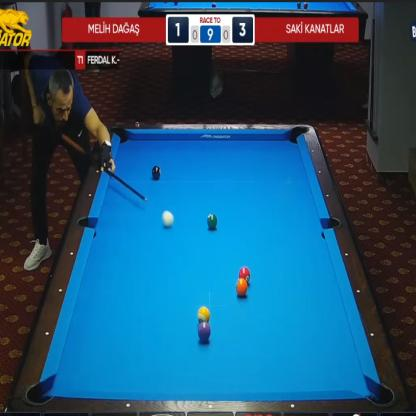Ball: (198, 322, 210, 342), (197, 306, 210, 323), (236, 278, 247, 298), (162, 211, 173, 227), (239, 267, 250, 283), (207, 213, 217, 230), (152, 166, 161, 180)
